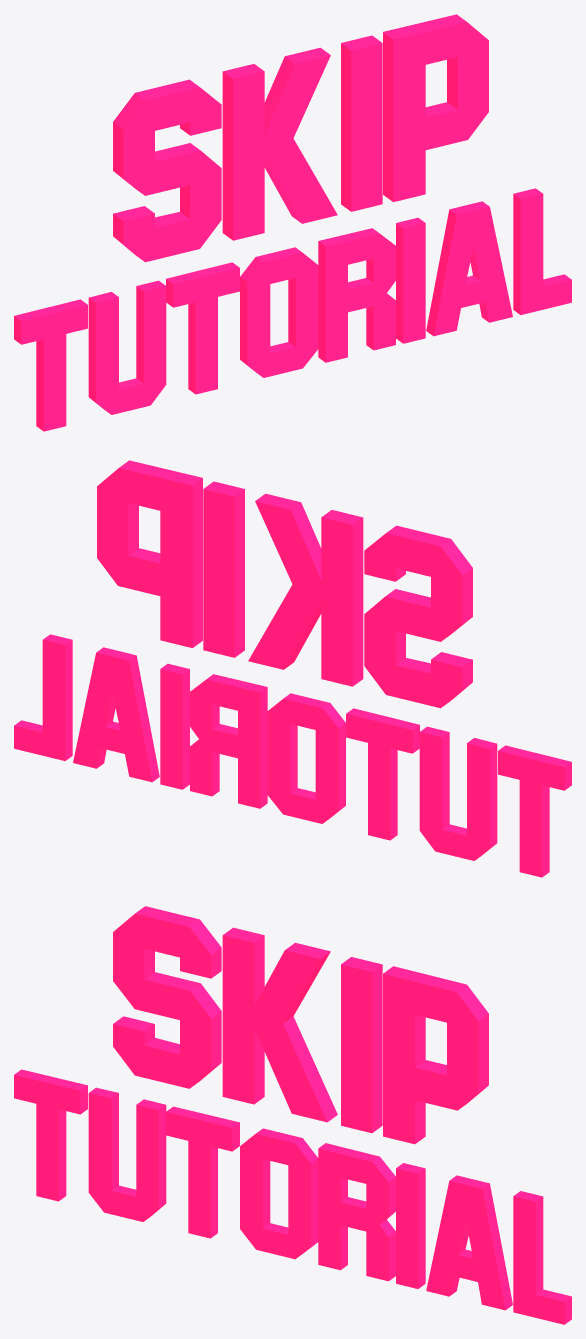
Rendered from FTUE-skiptutorial.fbx.
3 views of the same model, one above another, from view 1: azimuth 30°, elevation 25°; view 2: azimuth 150°, elevation 25°; view 3: azimuth 330°, elevation 25° (orthographic).
Parts seen in each view (by area): view 1: Text; view 2: Text; view 3: Text.
Part boxes in pixels (x1,y1,x2,y2): Text: (14,14,571,431); Text: (14,460,571,877); Text: (14,906,571,1324).
Size of the model in its own units: 493 by 264 by 16.22.
